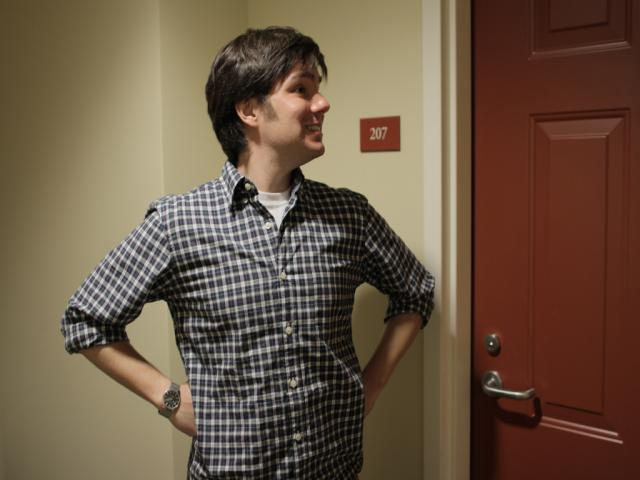Door-handle: (481, 372, 537, 401)
